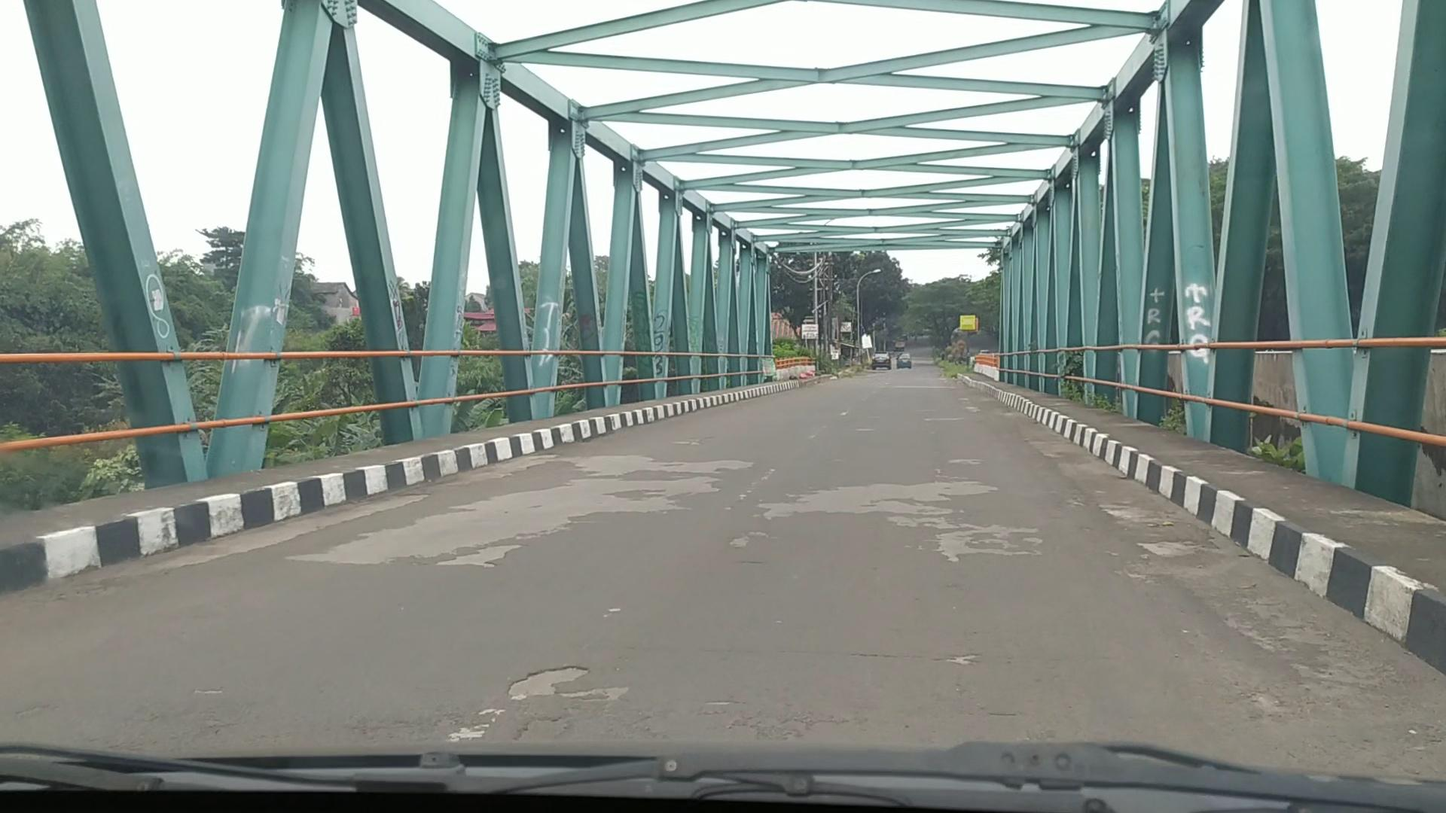pothole: (506, 665, 594, 698), (435, 544, 526, 568), (510, 713, 574, 742), (934, 654, 981, 665)
